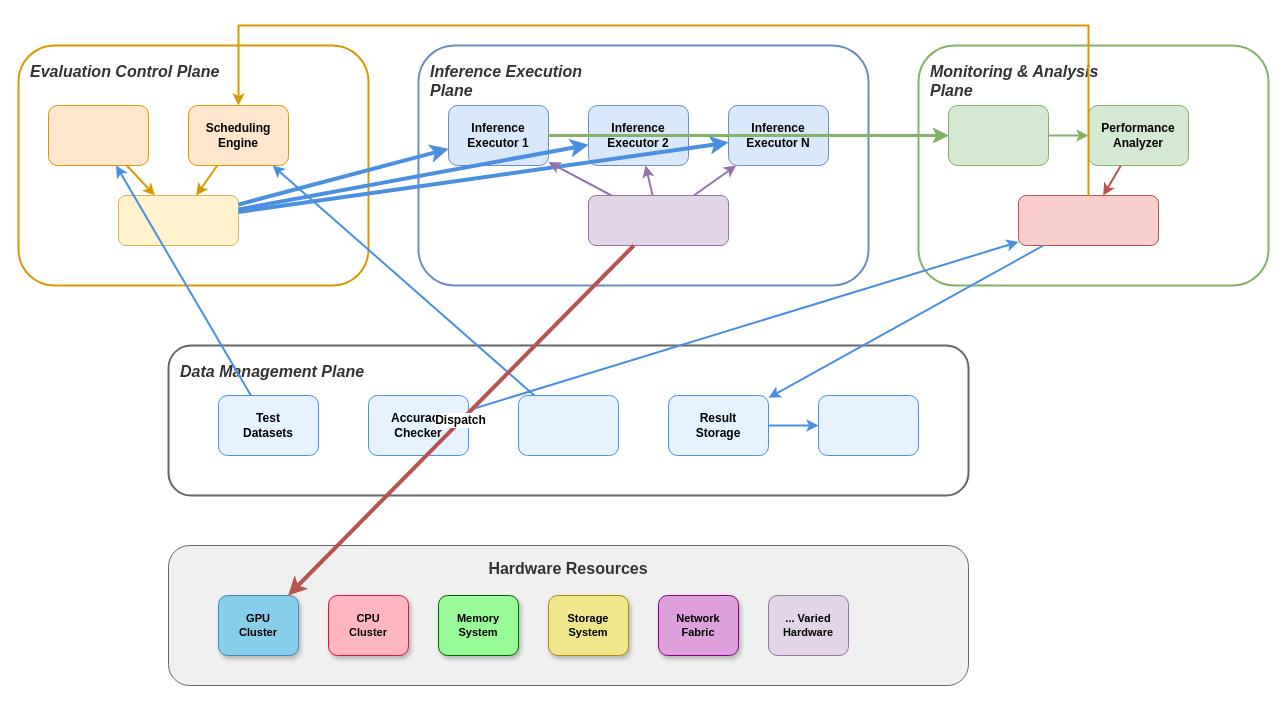
Some shapes in this 1286 by 703 pixel diagram are drawn without their labels. The centre of each missing label's shape, as x and y in pixels:
"Configuration Manager" belongs at pixel 568 425.
"Data Storage & Analysis" belongs at pixel 1088 220.
"Load Generator" belongs at pixel 98 135.
"Metrics Collector" belongs at pixel 998 135.
"Model Loading Manager" belongs at pixel 658 220.
"Report Generator" belongs at pixel 868 425.
"Request Router" belongs at pixel 178 220.
